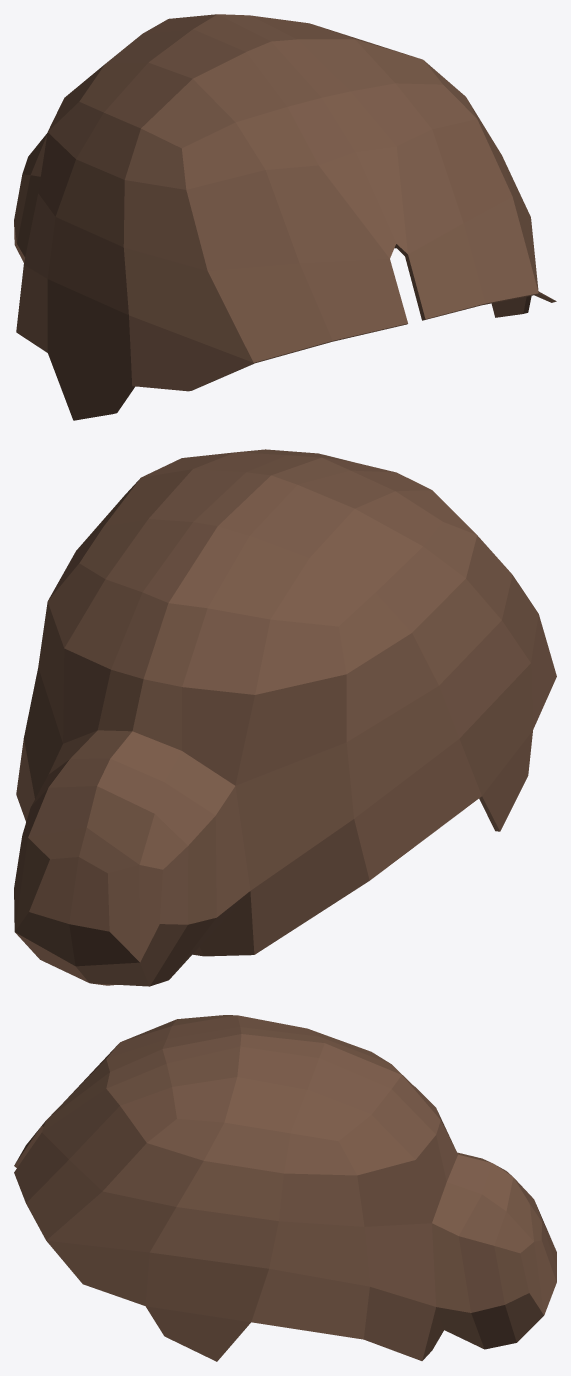
Rendered from sleek_bun.glb.
3 renders of one model, top to bottom at view 1: azimuth 30°, elevation 25°; view 2: azimuth 150°, elevation 25°; view 3: azimuth 270°, elevation 25°, orthographic. The views are drawn at different scales.
Visible parts, largest first — view 1: Sleek Bun.001; view 2: Sleek Bun.001; view 3: Sleek Bun.001.
Boxes of the visible parts, x1,y1,x2,y2 form: Sleek Bun.001: (14,14,556,420); Sleek Bun.001: (14,449,556,986); Sleek Bun.001: (14,1015,556,1361).
Size of the model in its own units: 0.4591 by 0.3946 by 0.6366.
